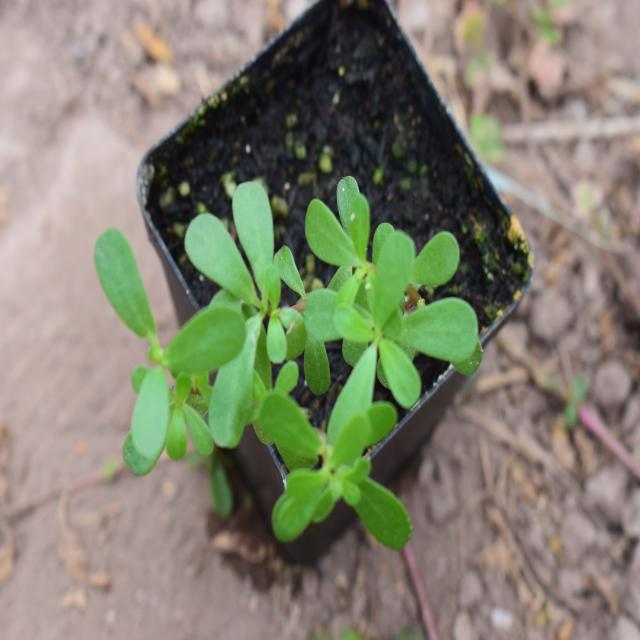purslane: (97, 176, 479, 541)
